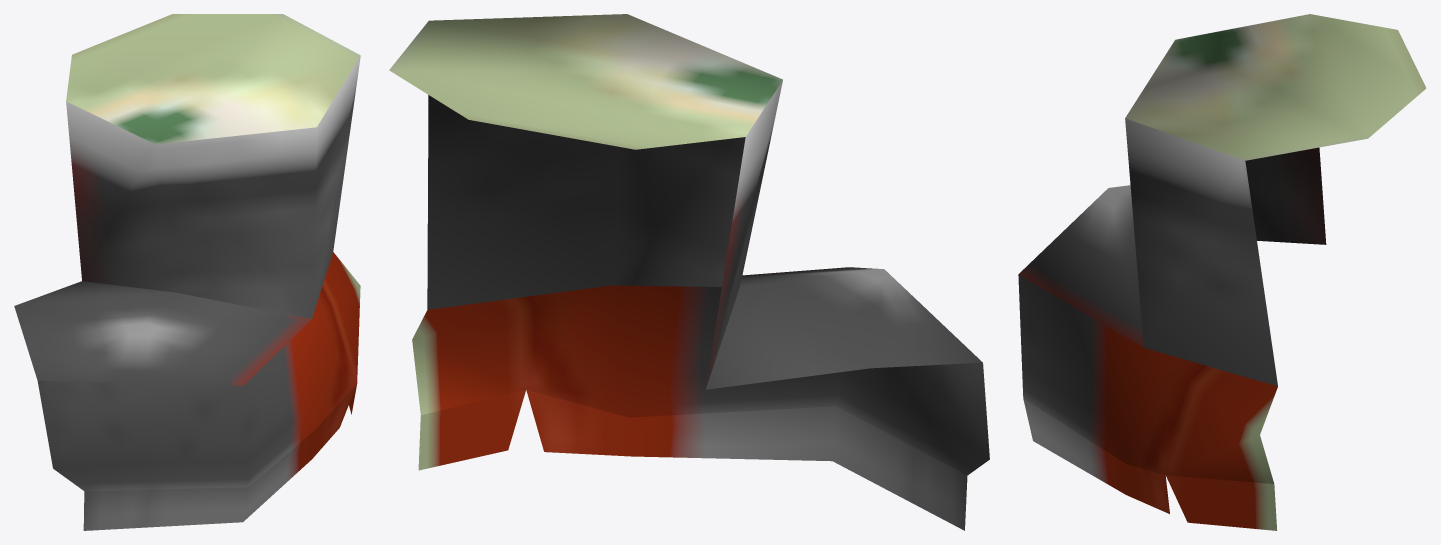
File: fg_boot_out.dae
The picture shows the model from 3 angles, left to right: view 1: azimuth 30°, elevation 25°; view 2: azimuth 150°, elevation 25°; view 3: azimuth 270°, elevation 25°; orthographic projection. The views are drawn at different scales.
Visible parts, largest first — view 1: fg_boot_out; view 2: fg_boot_out; view 3: fg_boot_out.
Part boxes in pixels (<box>): fg_boot_out: <box>14,14,360,530</box>; fg_boot_out: <box>389,14,989,530</box>; fg_boot_out: <box>1018,14,1426,530</box>.
Size of the model in its own units: 13.76 by 12.51 by 11.3.
1 material, 1 textured.
